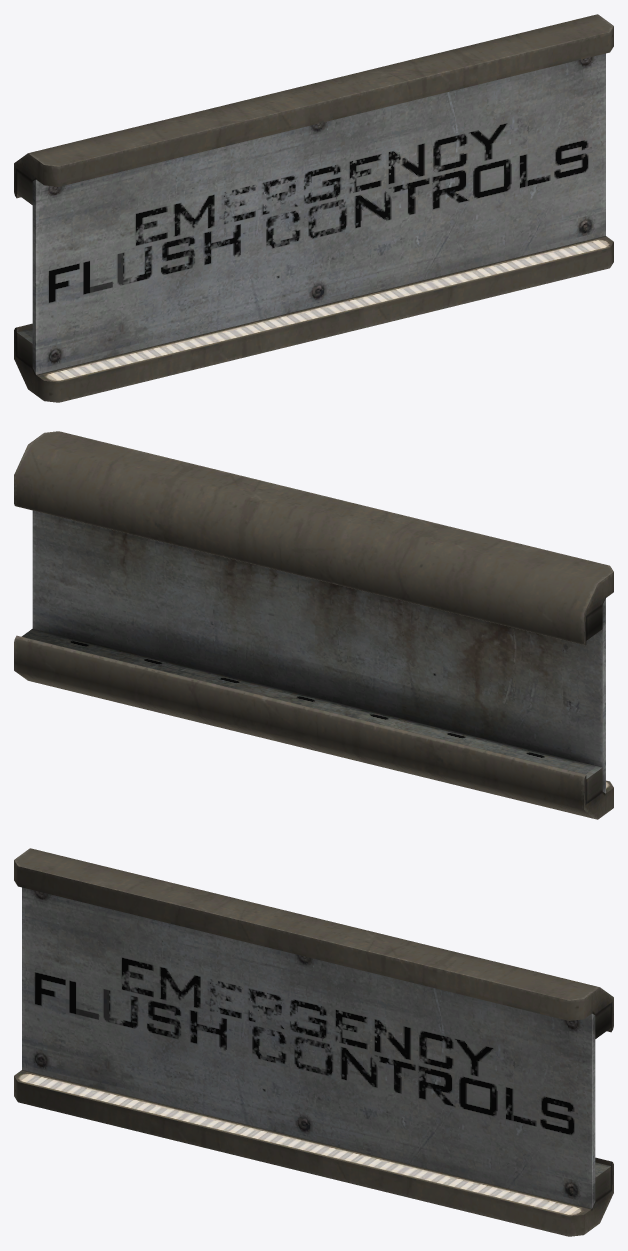
The model's file is sign_emergency_flush_controls.dae.
3 renders of one model, top to bottom at view 1: azimuth 30°, elevation 25°; view 2: azimuth 150°, elevation 25°; view 3: azimuth 330°, elevation 25°, orthographic.
Parts seen in each view (by area): view 1: pCube1; view 2: pCube1; view 3: pCube1.
Part boxes in pixels (x1=…): pCube1: x1=14, y1=14, x2=613, y2=402; pCube1: x1=14, y1=431, x2=613, y2=819; pCube1: x1=14, y1=848, x2=613, y2=1236.
Size of the model in its own units: 1 by 0.3959 by 0.1078.
